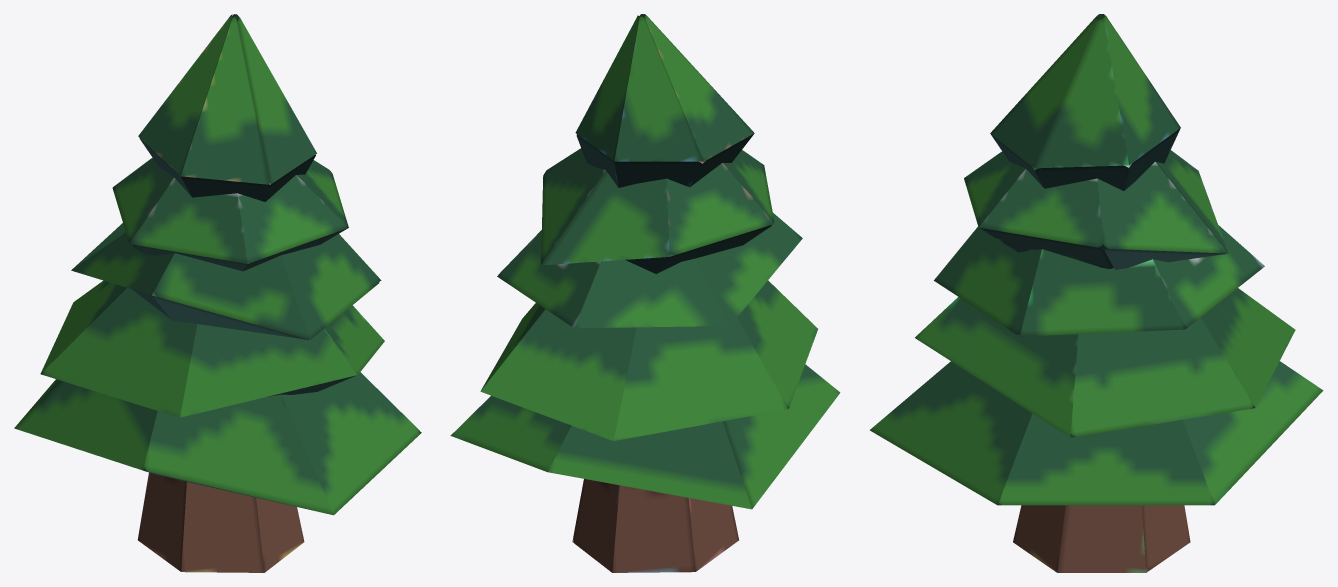
Rendered from tree.fbx.
The picture shows the model from 3 angles, left to right: view 1: azimuth 30°, elevation 25°; view 2: azimuth 150°, elevation 25°; view 3: azimuth 270°, elevation 25°; orthographic projection. The views are drawn at different scales.
Visible parts, largest first — view 1: Cylinder.001; view 2: Cylinder.001; view 3: Cylinder.001.
Part boxes in pixels (<box>): Cylinder.001: <box>14,14,421,572</box>; Cylinder.001: <box>450,14,840,572</box>; Cylinder.001: <box>870,14,1323,572</box>.
Size of the model in its own units: 46.5 by 75.66 by 58.37.
Materials: 1 (1 with a texture image).
